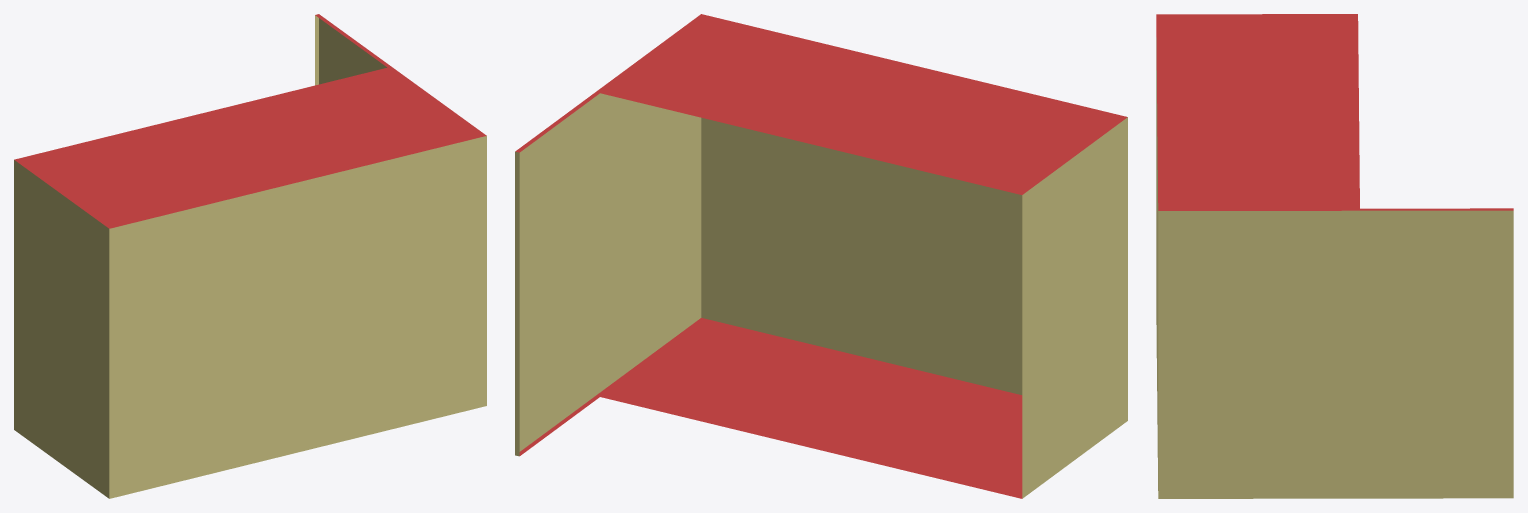
The picture shows the model from 3 angles, left to right: view 1: azimuth 30°, elevation 25°; view 2: azimuth 150°, elevation 25°; view 3: azimuth 270°, elevation 25°; orthographic projection. The views are drawn at different scales.
Size of the model in its own units: 8.32 by 6.37 by 5.66.
